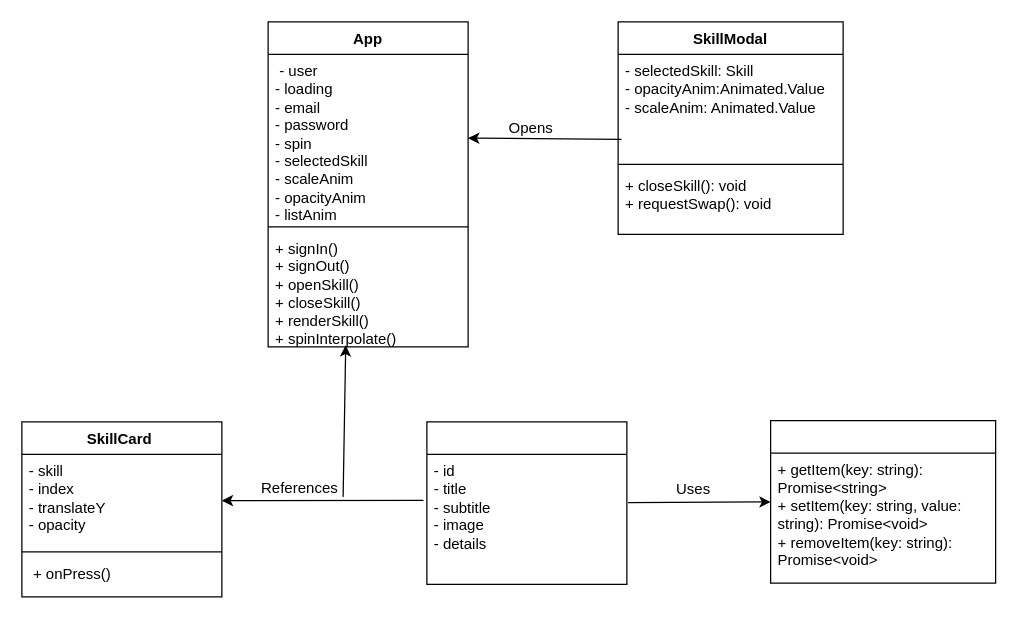
This 1018x623 diagram has some shape labels left out. Here are the shapes that lost their labels. From the top down, the box of each, then its label:
(426, 421, 627, 584): Skill
(769, 419, 996, 583): AsyncStorage
